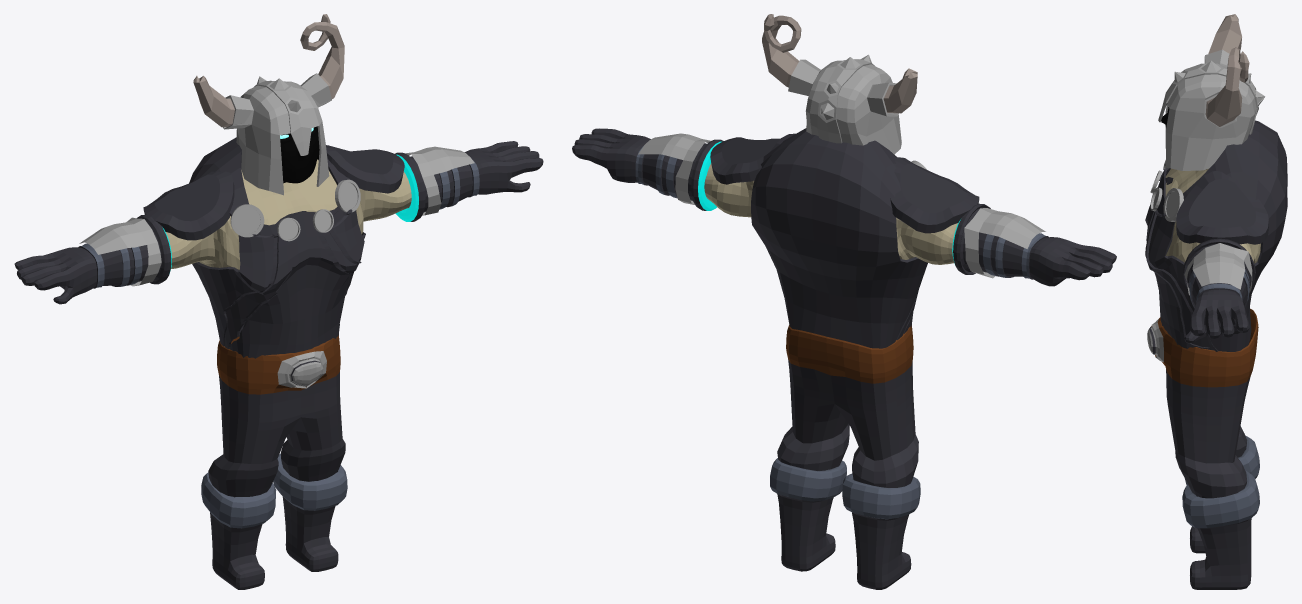
Rendered from boss1.fbx.
3 renders of one model, left to right at view 1: azimuth 30°, elevation 25°; view 2: azimuth 150°, elevation 25°; view 3: azimuth 270°, elevation 25°, orthographic. The views are drawn at different scales.
Visible parts, largest first — view 1: breastplate, pants, gloves, Helm, boots, shoulder pads, body, glove guards, shoulder pads.001, head, shoulder pads.002; view 2: breastplate, pants, boots, gloves, Helm, shoulder pads, glove guards, body; view 3: pants, breastplate, Helm, boots, shoulder pads, gloves, glove guards, body, shoulder pads.001, shoulder pads.002.
Boxes of the visible parts, bbox=[...] form: breastplate: bbox=[189, 137, 365, 358]; pants: bbox=[208, 335, 345, 497]; gloves: bbox=[14, 141, 543, 304]; Helm: bbox=[193, 14, 344, 195]; boots: bbox=[201, 453, 347, 589]; shoulder pads: bbox=[143, 145, 404, 240]; body: bbox=[165, 159, 411, 270]; glove guards: bbox=[79, 146, 474, 286]; shoulder pads.001: bbox=[230, 179, 360, 237]; head: bbox=[280, 126, 319, 183]; shoulder pads.002: bbox=[277, 209, 333, 241]; breastplate: bbox=[751, 128, 927, 348]; pants: bbox=[777, 325, 918, 487]; boots: bbox=[770, 458, 920, 589]; gloves: bbox=[572, 128, 1116, 286]; Helm: bbox=[762, 14, 917, 154]; shoulder pads: bbox=[710, 133, 979, 233]; glove guards: bbox=[638, 133, 1045, 278]; body: bbox=[704, 163, 957, 264]; pants: bbox=[1147, 308, 1258, 498]; breastplate: bbox=[1145, 120, 1287, 351]; Helm: bbox=[1158, 14, 1265, 170]; boots: bbox=[1182, 435, 1259, 589]; shoulder pads: bbox=[1176, 171, 1268, 244]; gloves: bbox=[1183, 238, 1255, 343]; glove guards: bbox=[1184, 243, 1252, 295]; body: bbox=[1165, 168, 1260, 263]; shoulder pads.001: bbox=[1163, 160, 1183, 221]; shoulder pads.002: bbox=[1150, 170, 1162, 211].
Size of the model in its own units: 485 by 479 by 113.
